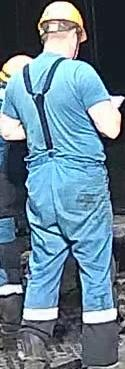helmet: (37, 0, 84, 35), (0, 54, 33, 86)
